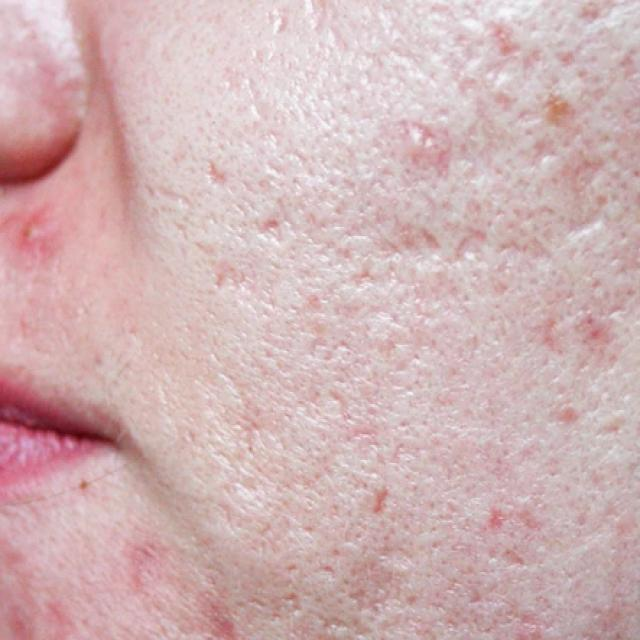Acne: (467, 487, 545, 582), (518, 70, 602, 150), (21, 202, 58, 262)
